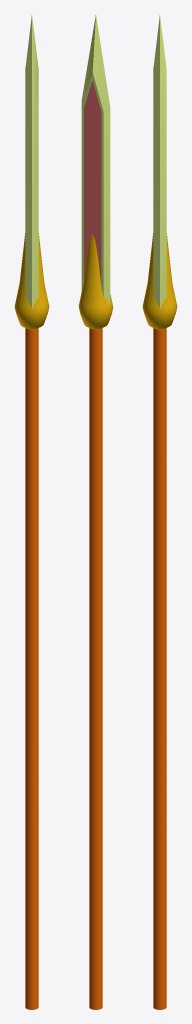
File: spear.fbx
3 renders of one model, left to right at view 1: azimuth 90°, elevation 25°; view 2: azimuth 150°, elevation 25°; view 3: azimuth 270°, elevation 25°, orthographic.
Parts seen in each view (by area): view 1: Spear; view 2: Spear; view 3: Spear.
Part boxes in pixels (x1,y1,x2,y2): Spear: [14, 15, 49, 1009]; Spear: [78, 15, 113, 1009]; Spear: [142, 15, 177, 1009].
Bounding box in the file's own units: 12.09 × 380 × 12.09.
